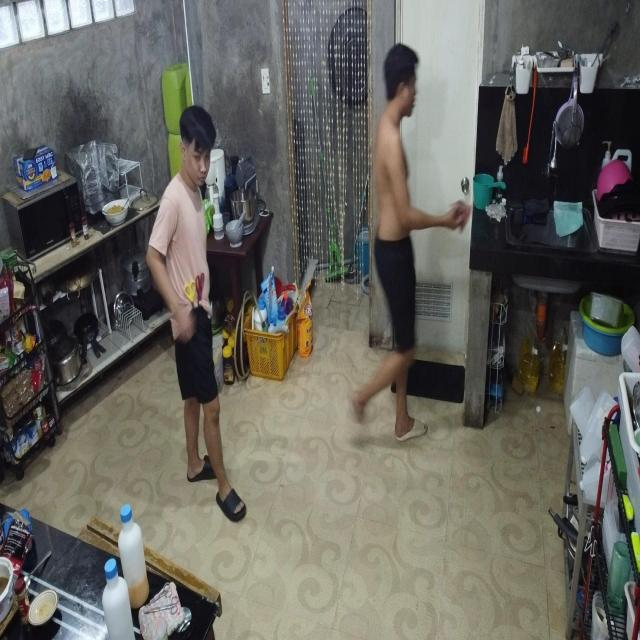scissor: (144, 596, 179, 615), (150, 582, 172, 604), (184, 281, 196, 309), (195, 272, 204, 306)
